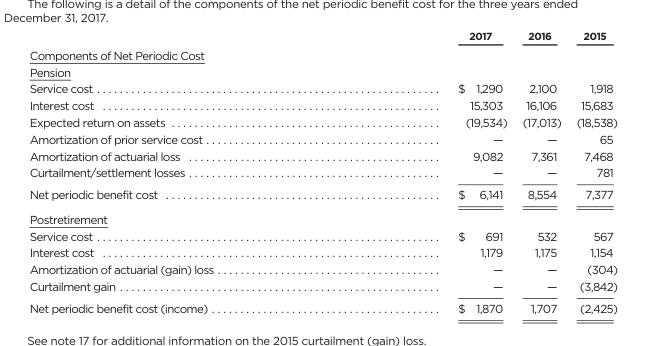table: (28, 29, 617, 314)
table column: (28, 29, 335, 314), (335, 29, 514, 314), (514, 29, 568, 314), (568, 29, 617, 314)
table column header: (28, 29, 617, 44)
table projected row header: (28, 206, 617, 227), (28, 44, 617, 63), (28, 63, 617, 79)
table row: (28, 183, 617, 206), (28, 206, 617, 227), (28, 163, 617, 183), (28, 44, 617, 63), (28, 277, 617, 296), (28, 296, 617, 314), (28, 79, 617, 96), (28, 96, 617, 113), (28, 113, 617, 130), (28, 146, 617, 163), (28, 243, 617, 260), (28, 260, 617, 277), (28, 63, 617, 79), (28, 130, 617, 146), (28, 227, 617, 243), (28, 29, 617, 44)
